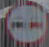No overtake: (5, 1, 44, 46)
